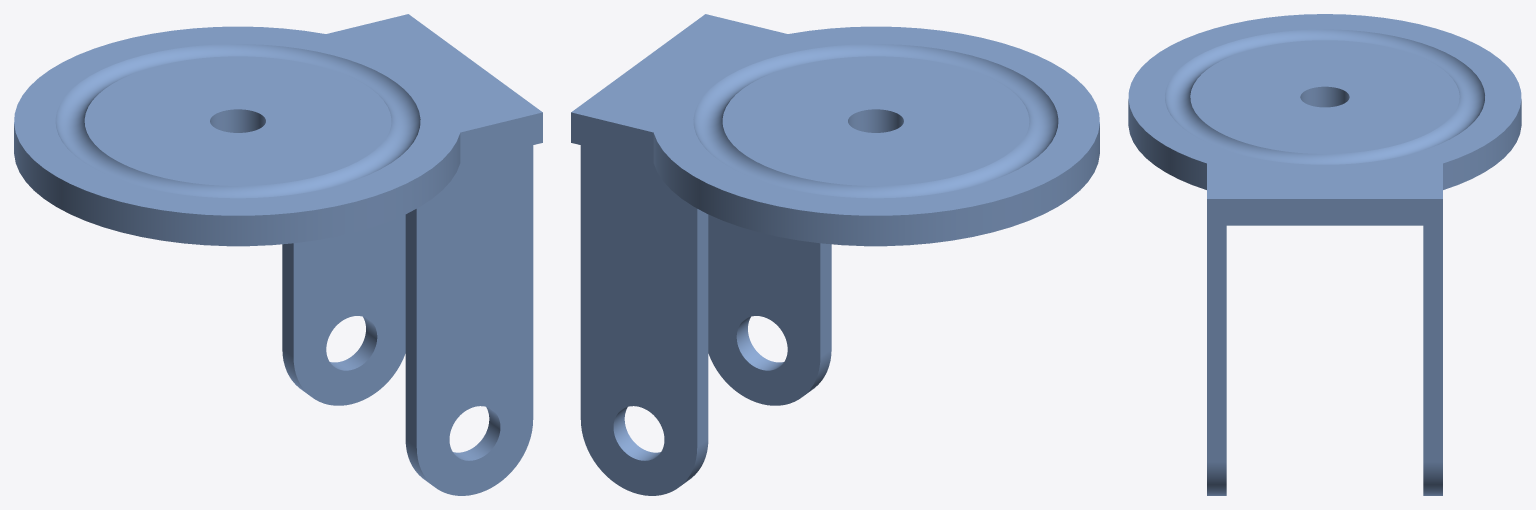
File: step_17.glb
The picture shows the model from 3 angles, left to right: view 1: azimuth 30°, elevation 25°; view 2: azimuth 150°, elevation 25°; view 3: azimuth 270°, elevation 25°; orthographic projection. The views are drawn at different scales.
Visible parts, largest first — view 1: part__fork; view 2: part__fork; view 3: part__fork.
Part boxes in pixels (box(x1,y1,x2,y2)): part__fork: box(14, 14, 542, 495); part__fork: box(571, 14, 1099, 495); part__fork: box(1128, 14, 1521, 495).
Bounding box in the file's own units: 89 × 72 × 79.97.
